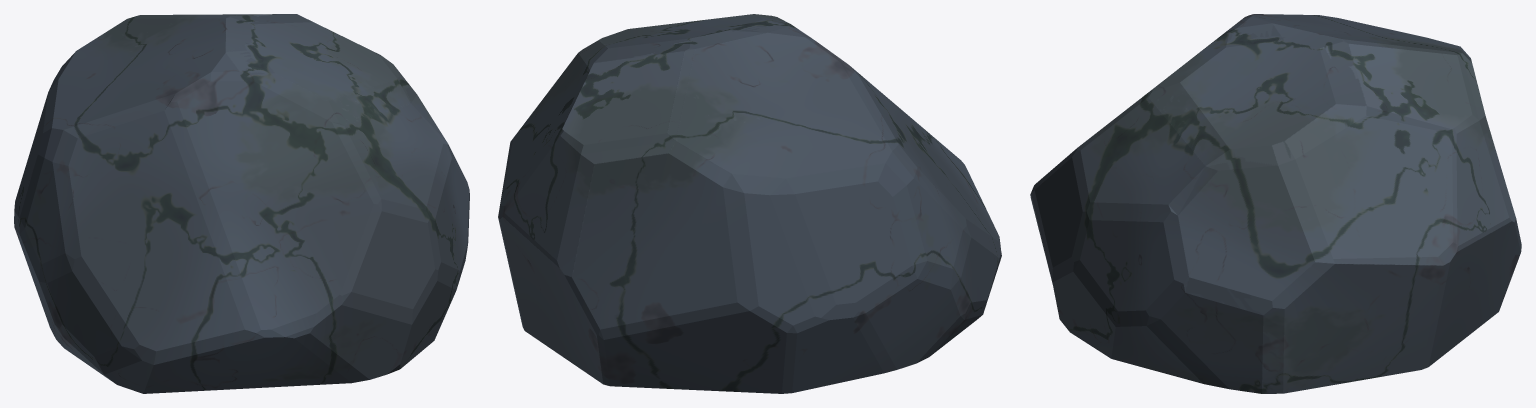
File: Rock01.fbx
3 renders of one model, left to right at view 1: azimuth 30°, elevation 25°; view 2: azimuth 150°, elevation 25°; view 3: azimuth 270°, elevation 25°, orthographic. The views are drawn at different scales.
Parts seen in each view (by area): view 1: Sphere.001; view 2: Sphere.001; view 3: Sphere.001.
Part boxes in pixels (x1,y1,x2,y2): Sphere.001: (14, 14, 469, 393); Sphere.001: (498, 14, 1001, 393); Sphere.001: (1030, 14, 1521, 393).
Bounding box in the file's own units: 146 × 92.84 × 150.
Materials: 1 (1 with a texture image).
